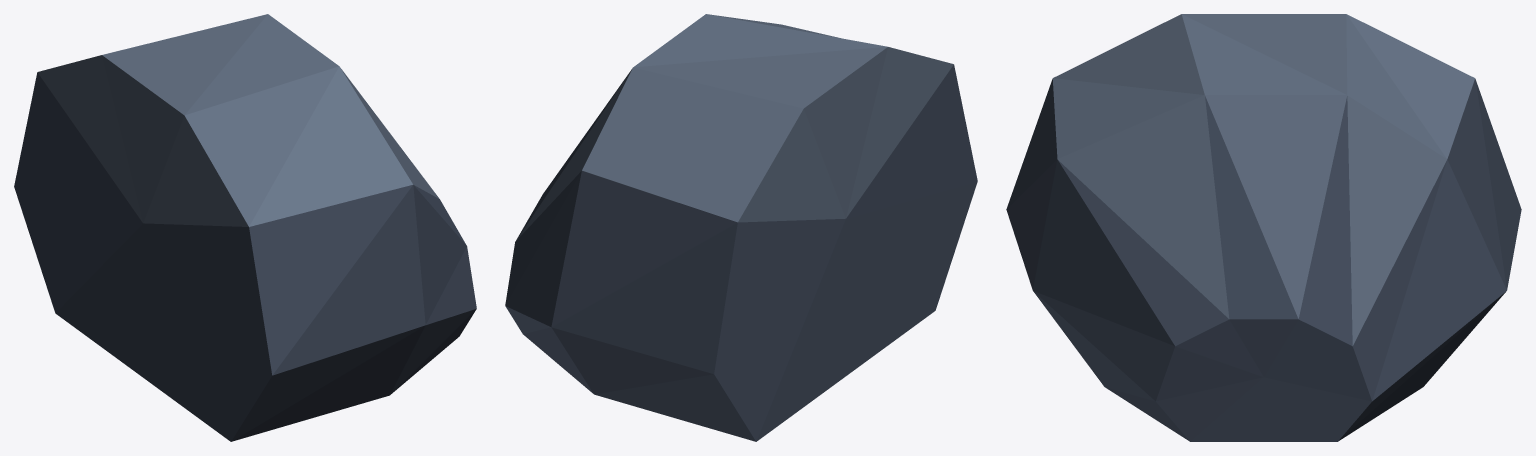
The model's file is ledge_z1_rock_cap_r.glb.
3 views of the same model, side by side, from view 1: azimuth 30°, elevation 25°; view 2: azimuth 150°, elevation 25°; view 3: azimuth 270°, elevation 25° (orthographic). The views are drawn at different scales.
Visible parts, largest first — view 1: ledge_z1_rock_cap_r; view 2: ledge_z1_rock_cap_r; view 3: ledge_z1_rock_cap_r.
Boxes of the visible parts, bbox=[...] form: ledge_z1_rock_cap_r: bbox=[14, 14, 476, 441]; ledge_z1_rock_cap_r: bbox=[505, 14, 977, 441]; ledge_z1_rock_cap_r: bbox=[1006, 14, 1521, 441].
Bounding box in the file's own units: 1 × 1 × 1.6.
